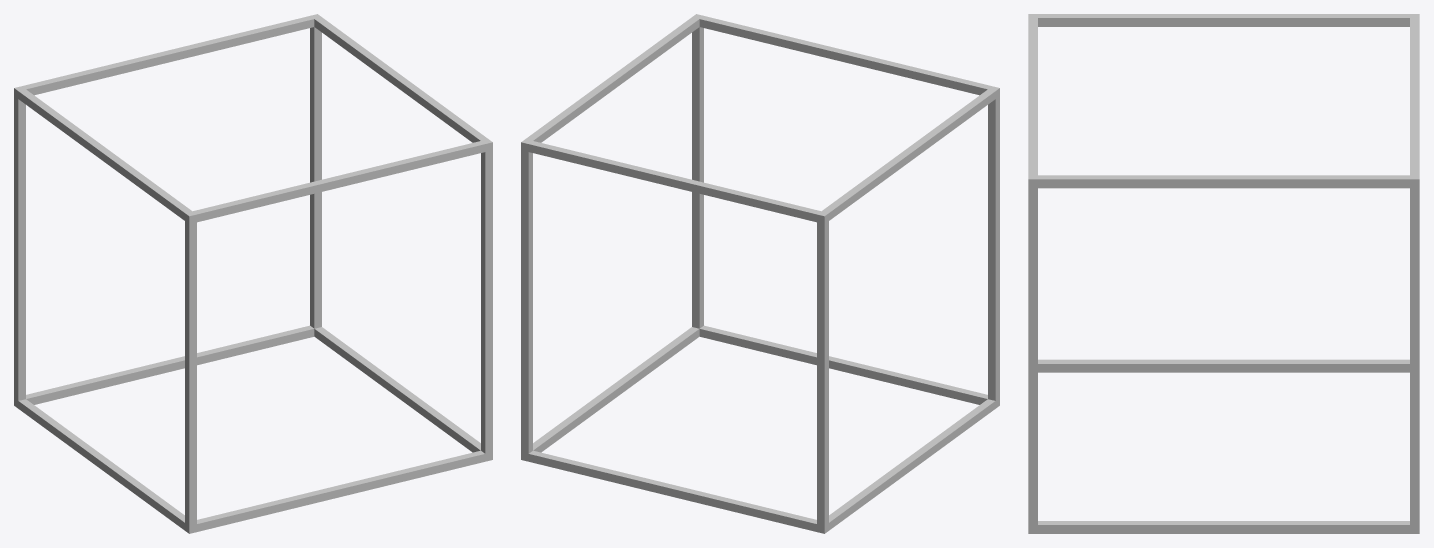
File: MovementParticle2.obj
The picture shows the model from 3 angles, left to right: view 1: azimuth 30°, elevation 25°; view 2: azimuth 150°, elevation 25°; view 3: azimuth 270°, elevation 25°; orthographic projection. The views are drawn at different scales.
Visible parts, largest first — view 1: 立方体.001; view 2: 立方体.001; view 3: 立方体.001.
Part boxes in pixels (x1,y1,x2,y2): 立方体.001: (14,14,492,533); 立方体.001: (521,14,999,533); 立方体.001: (1028,14,1419,533).
Bounding box in the file's own units: 2 × 2 × 2.
Materials: 1 (1 with a texture image).
